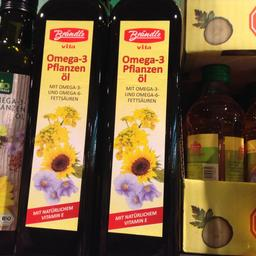oil: (16, 0, 102, 255), (100, 1, 182, 255), (184, 60, 243, 180)
